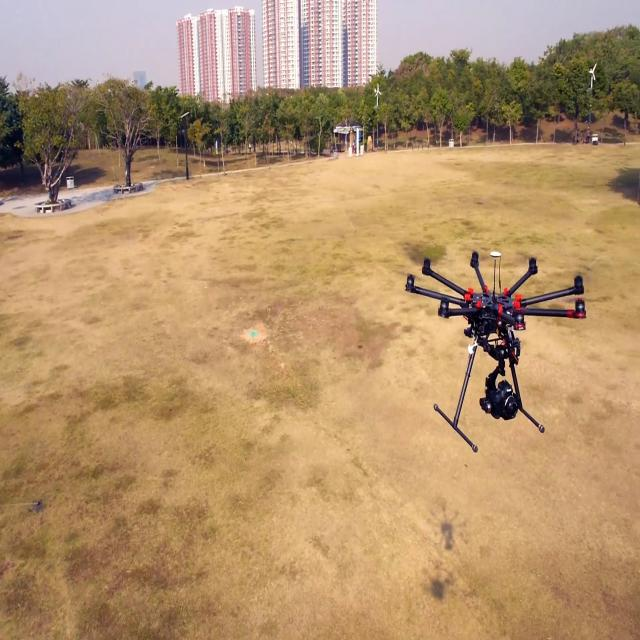drone: (402, 238, 594, 455)
